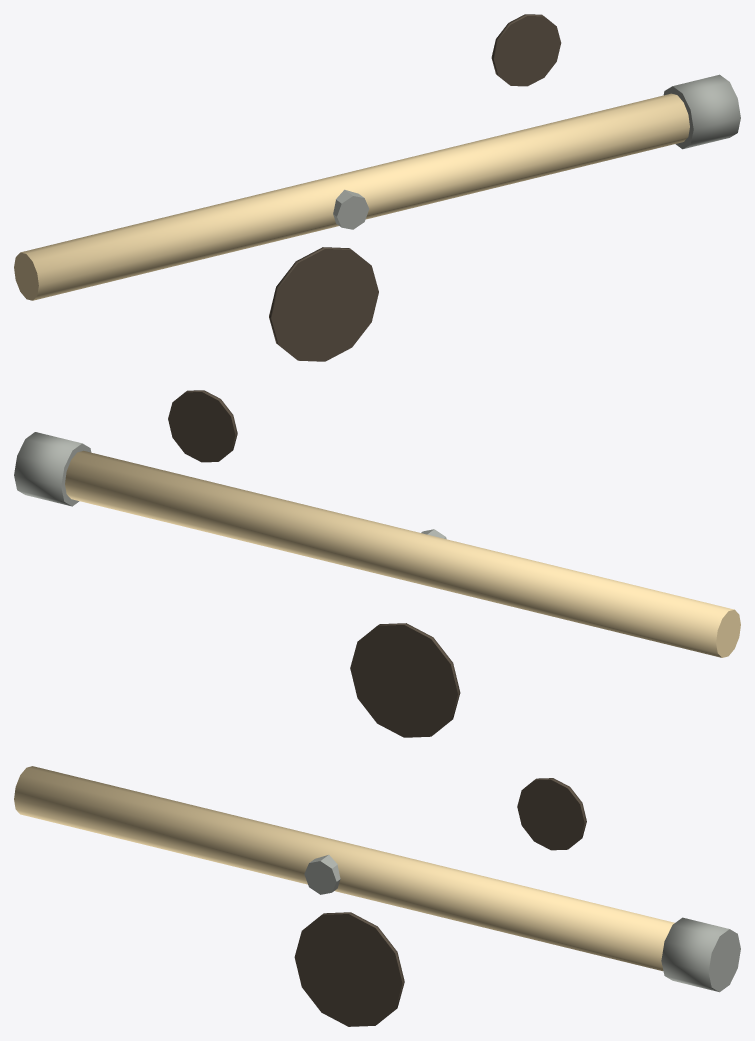
The model's file is drip_m08.obj.
3 renders of one model, top to bottom at view 1: azimuth 30°, elevation 25°; view 2: azimuth 150°, elevation 25°; view 3: azimuth 330°, elevation 25°, orthographic.
Parts seen in each view (by area): view 1: hose8, wet8_0, wet8_1, end_cap, emitter8; view 2: hose8, wet8_0, wet8_1, end_cap; view 3: hose8, wet8_0, end_cap, wet8_1, emitter8.
Part boxes in pixels (box(x1,y1,x2,y2)): hose8: box(14, 93, 689, 300); wet8_0: box(269, 247, 378, 361); wet8_1: box(491, 14, 561, 86); end_cap: box(663, 74, 740, 149); emitter8: box(333, 189, 369, 229); hose8: box(65, 450, 740, 657); wet8_0: box(350, 623, 460, 737); wet8_1: box(168, 390, 237, 462); end_cap: box(14, 432, 91, 506); hose8: box(14, 766, 674, 971); wet8_0: box(294, 912, 404, 1026); end_cap: box(661, 917, 740, 992); wet8_1: box(517, 778, 586, 850); emitter8: box(304, 855, 340, 894).
Size of the model in its own units: 0.5175 by 0.21 by 0.0418.
3 materials, 3 textured.
